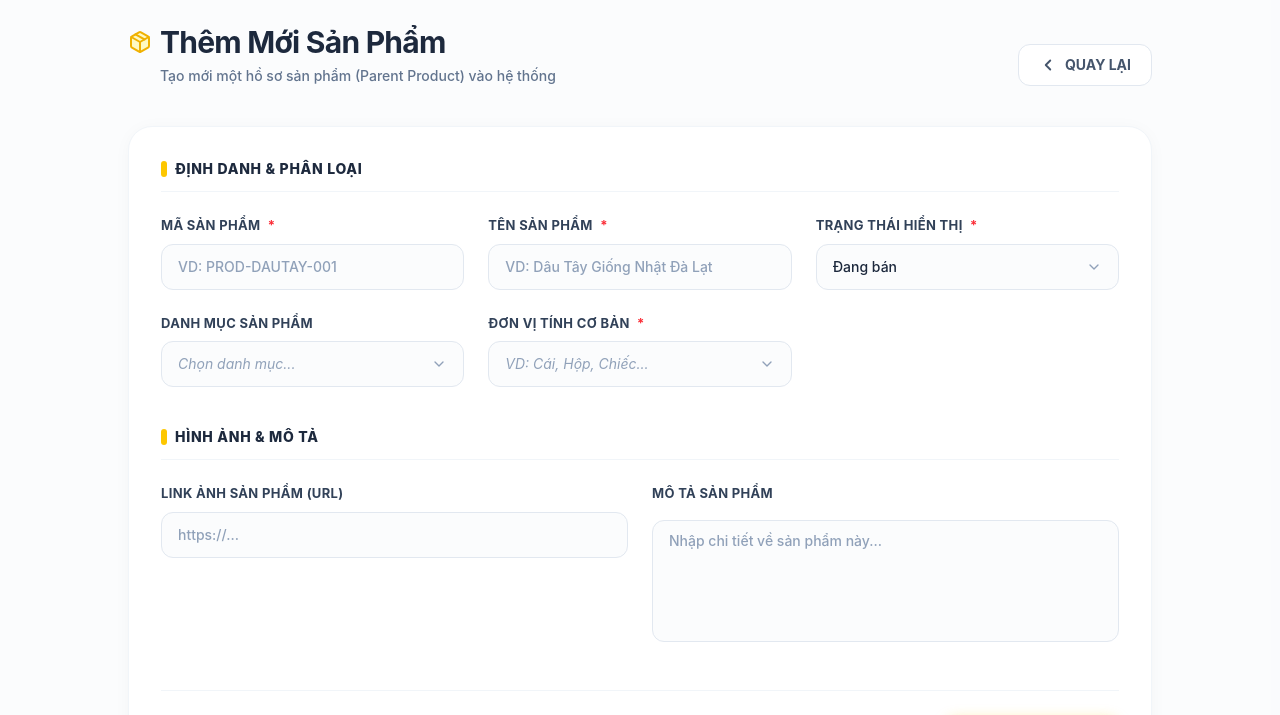
Test case: Module 05 - ProductForm Component › TC03 - Báo lỗi trùng lặp mã sản phẩm ngay trên form
The image size is (1280, 715).
Expected: the heading "Thêm Mới Sản Phẩm" is shown, [160,24,446,60]
Type "prod-existing" into the field with placeholder "VD: PROD-DAUTAY-001" at (313, 266), box [161,244,464,290]
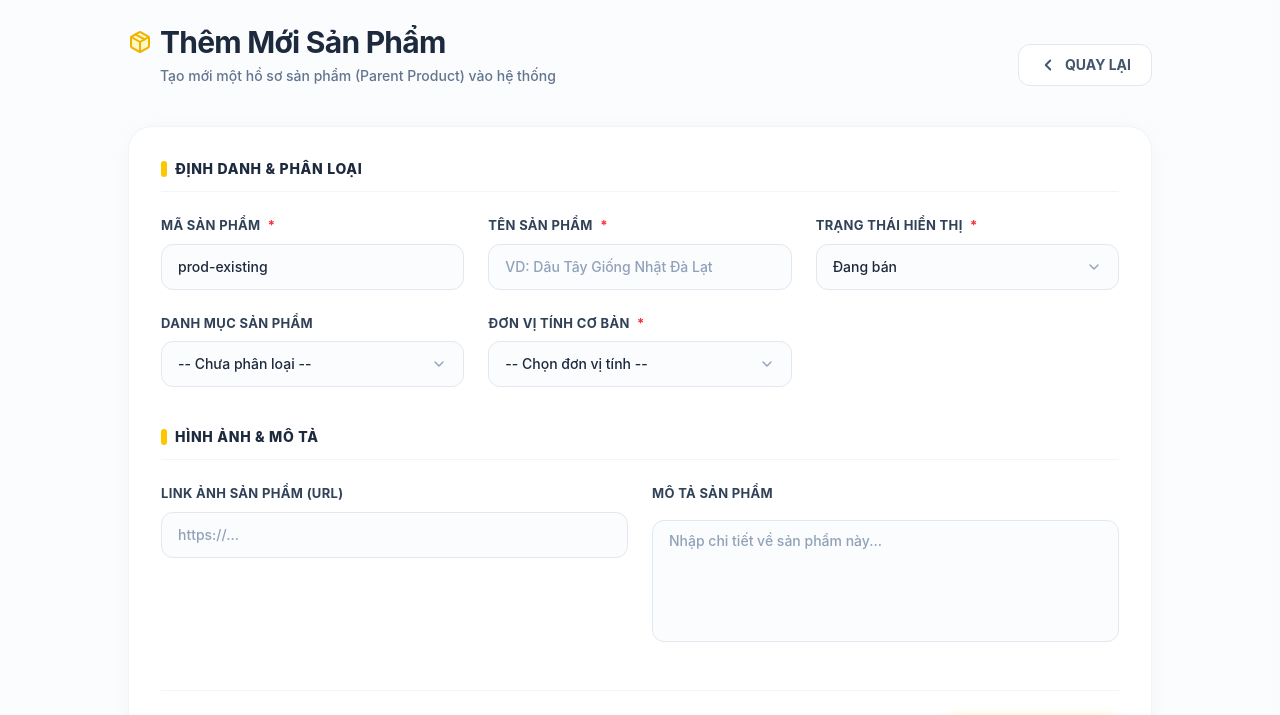
Type "Sản phẩm mới" into the field with placeholder "VD: Dâu Tây Giống Nhật Đà Lạt" at (640, 266), box [488,244,792,290]
(page scrolled)
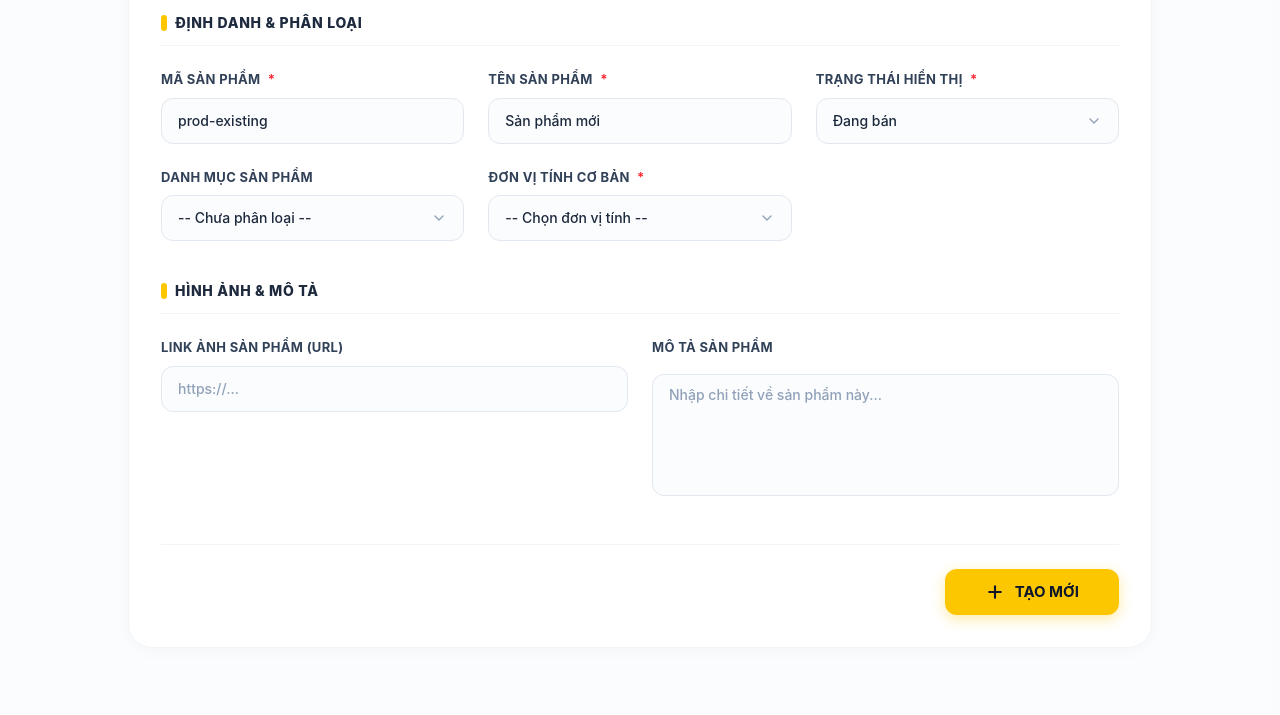
Click the button "TẠO MỚI" at (1032, 592), box [945,568,1119,615]
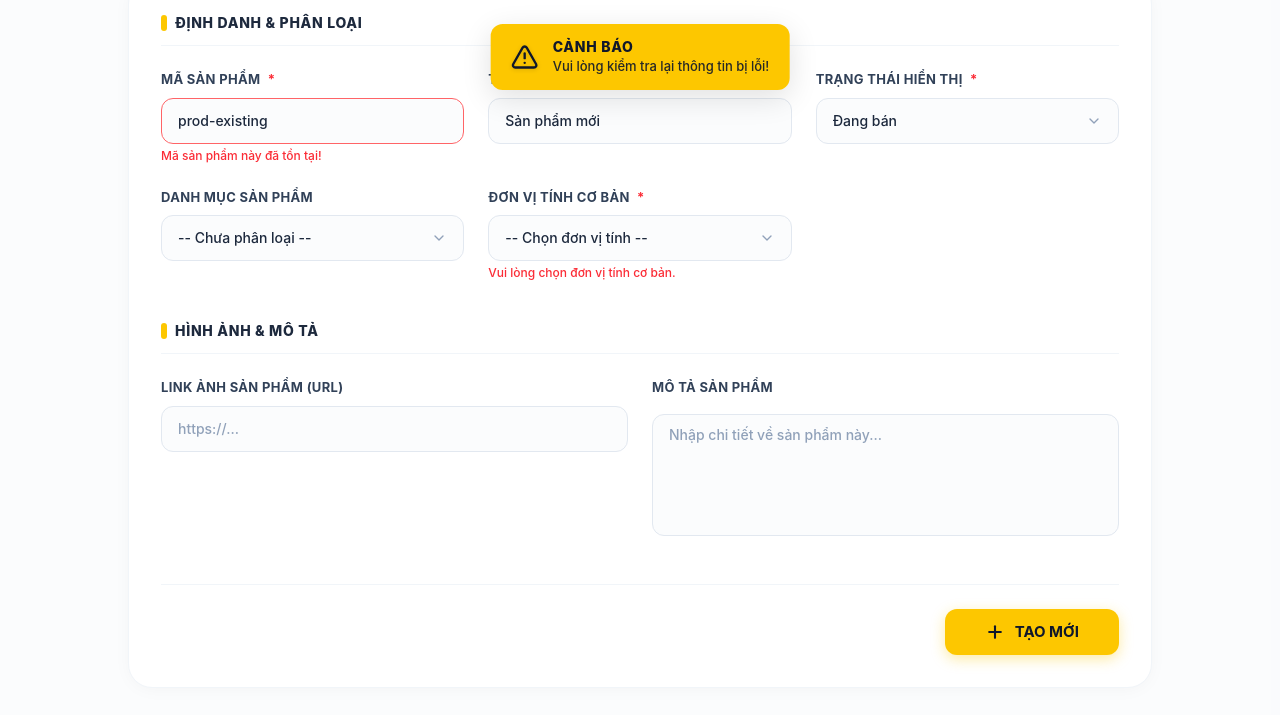
Now the text "Mã sản phẩm này đã tồn tại!" is shown, box [161,148,322,162]
